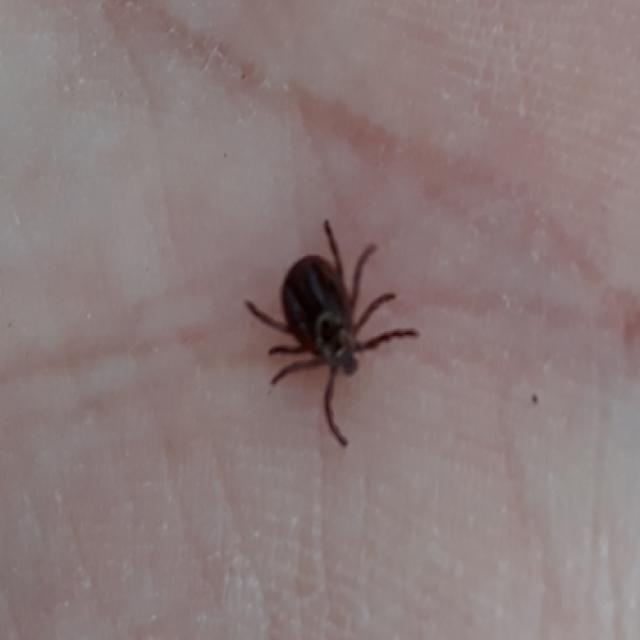Dermacentor Reticulatus-F: (247, 218, 420, 444)
